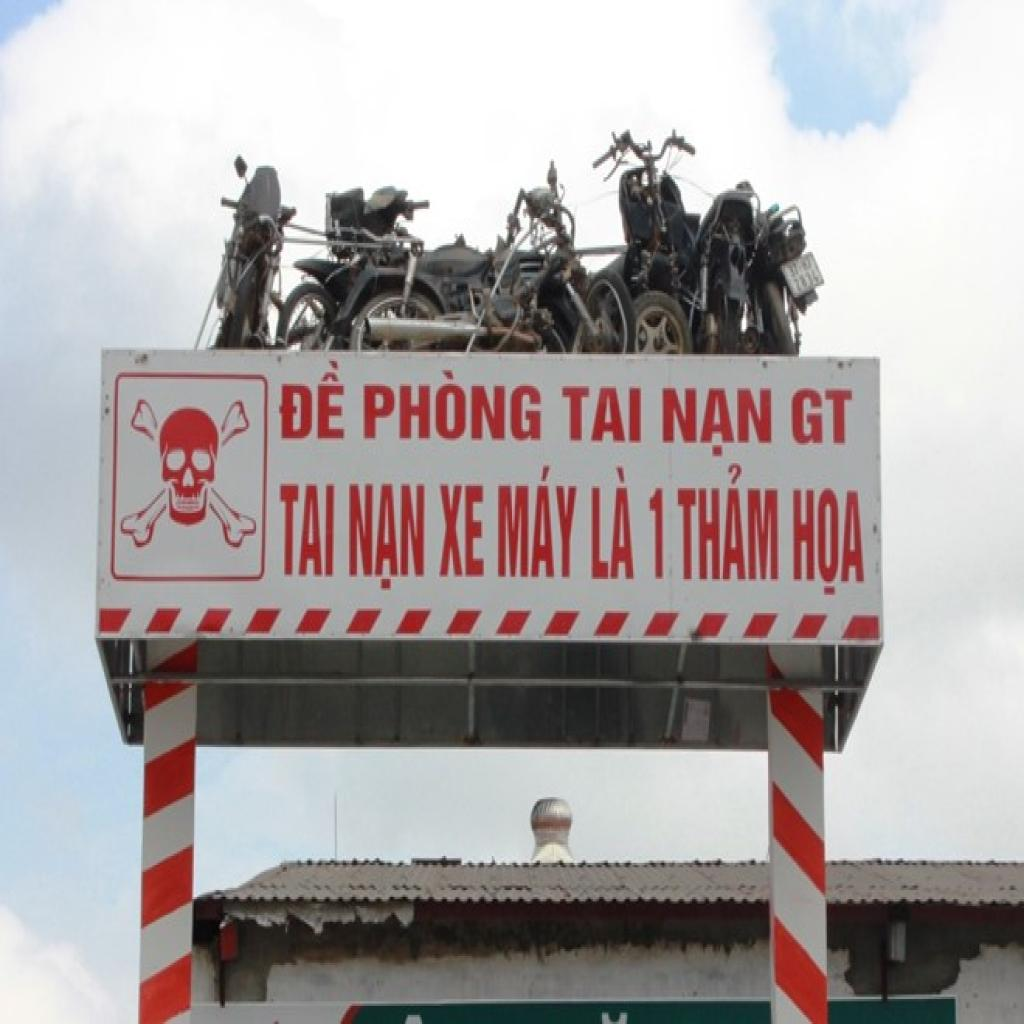text: (362, 366, 543, 442), (672, 461, 780, 586), (492, 463, 582, 581), (346, 479, 433, 595), (790, 486, 867, 604), (659, 386, 776, 461), (586, 461, 640, 583), (275, 484, 338, 579), (278, 356, 346, 443), (562, 384, 647, 447), (436, 477, 487, 579), (790, 388, 855, 450), (644, 481, 667, 586)
